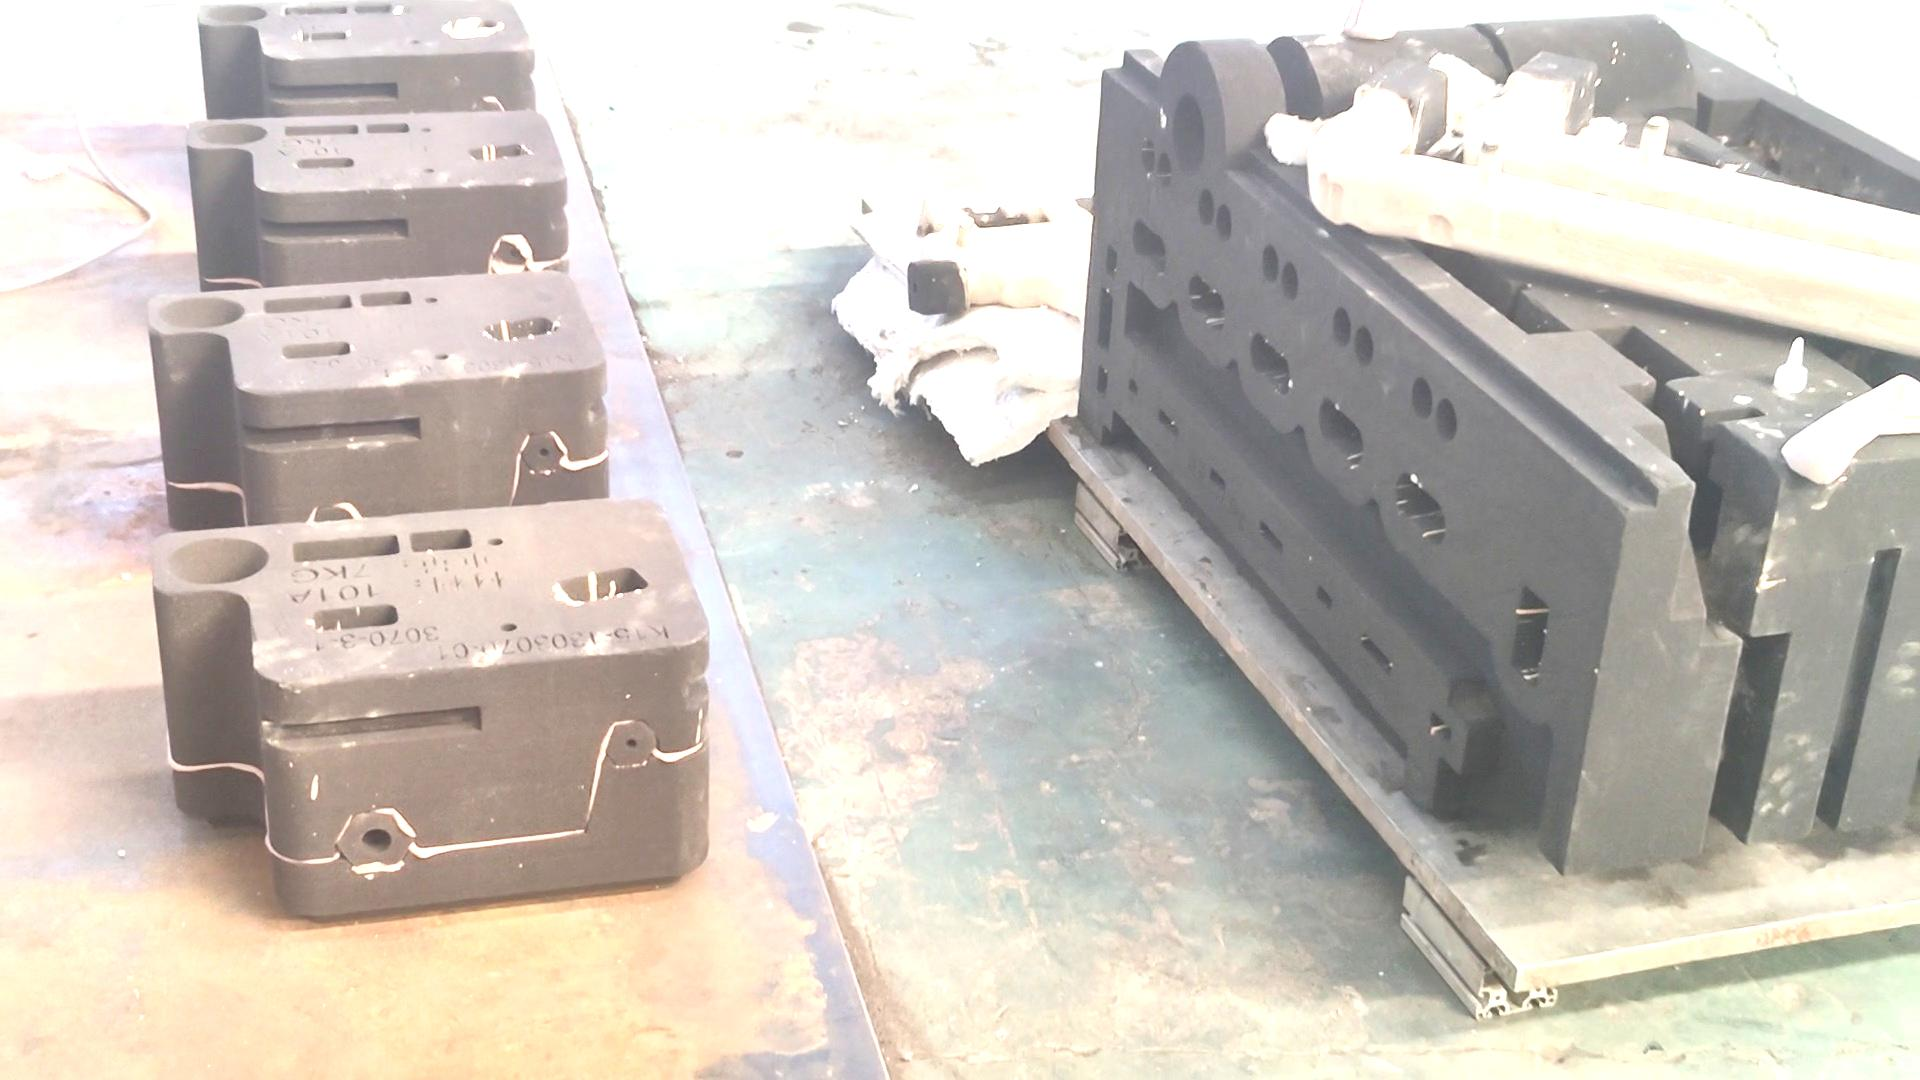pouring hole: (164, 537, 270, 585), (156, 295, 244, 330), (1171, 94, 1205, 178), (195, 123, 268, 146), (200, 4, 266, 24)
